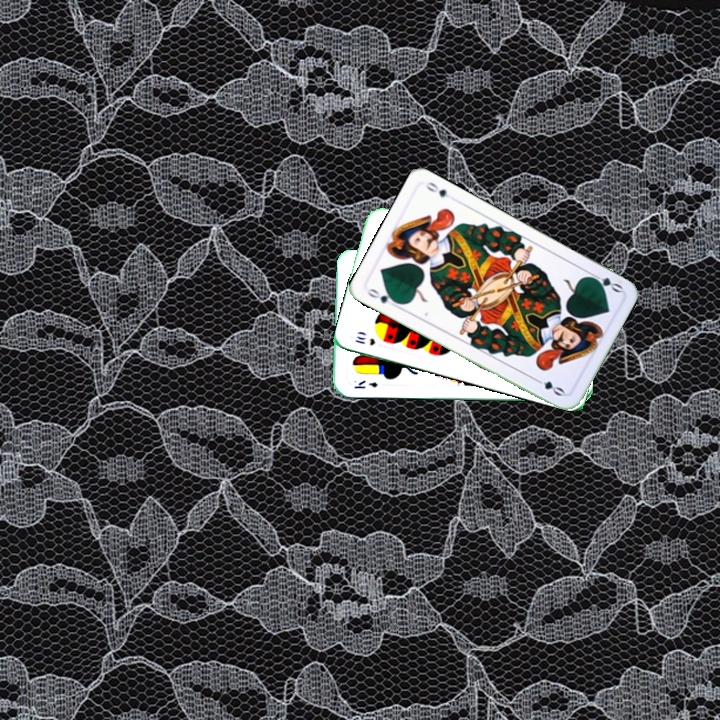EK: (351, 376, 380, 391)
GO: (585, 269, 625, 295), (363, 284, 402, 310)
S10: (351, 332, 378, 348)
